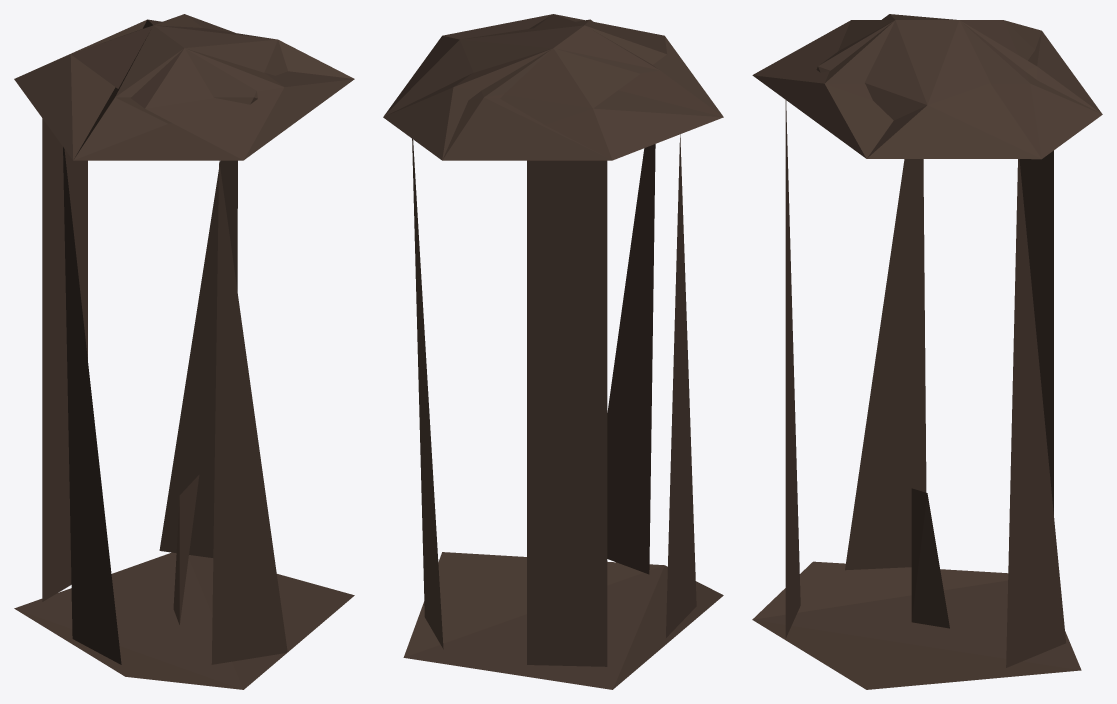
Rendered from lantern-iron.lod2.glb.
3 views of the same model, side by side, from view 1: azimuth 30°, elevation 25°; view 2: azimuth 150°, elevation 25°; view 3: azimuth 270°, elevation 25° (orthographic). The views are drawn at different scales.
Parts seen in each view (by area): view 1: Lantern_low_Material #1_0; view 2: Lantern_low_Material #1_0; view 3: Lantern_low_Material #1_0.
Boxes of the visible parts, x1,y1,x2,y2 form: Lantern_low_Material #1_0: [14, 14, 354, 689]; Lantern_low_Material #1_0: [383, 14, 723, 689]; Lantern_low_Material #1_0: [752, 14, 1102, 689].
Bounding box in the file's own units: 0.2757 × 0.55 × 0.2889.
